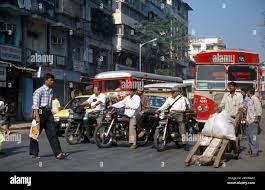nohelmet: (42, 73, 55, 87), (246, 86, 256, 99), (228, 81, 237, 94), (171, 87, 180, 98), (94, 85, 102, 97)
